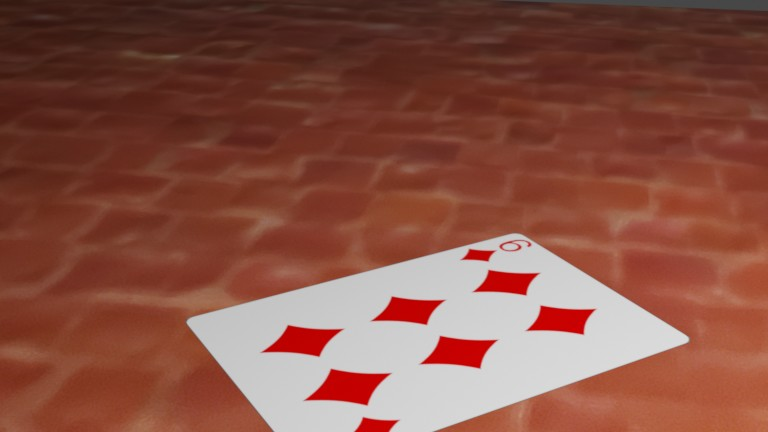6_of_diamonds: (287, 403, 418, 432), (446, 234, 542, 270)
